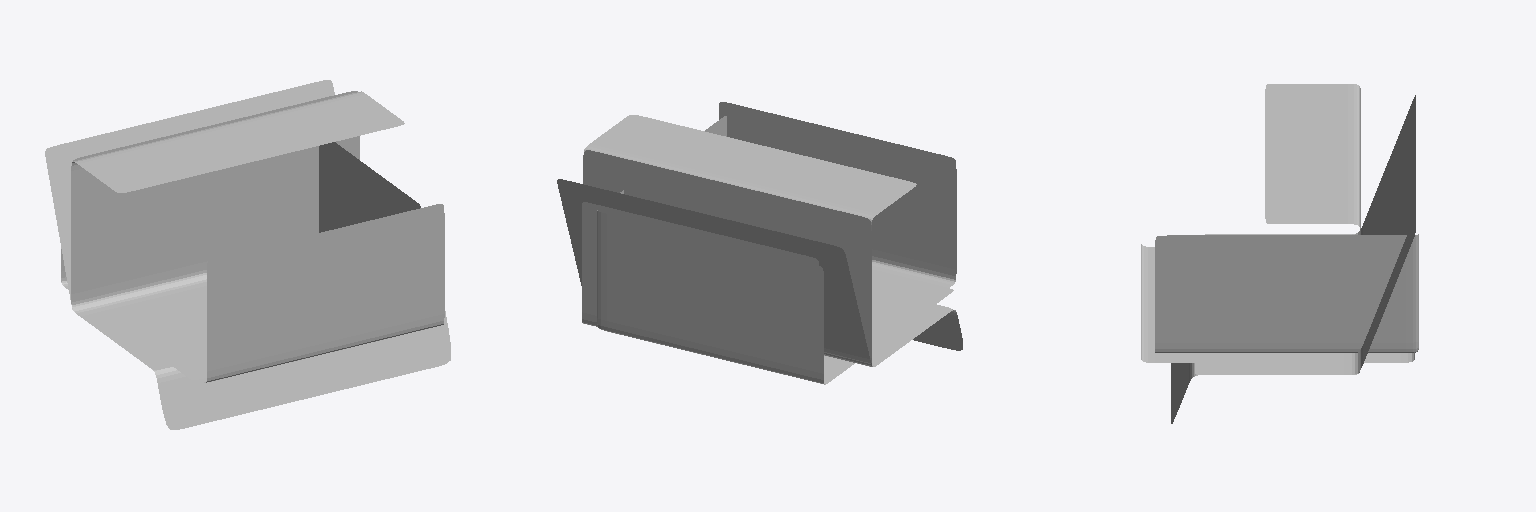
Rendered from Studio Backdrops.obj.
3 renders of one model, left to right at view 1: azimuth 30°, elevation 25°; view 2: azimuth 150°, elevation 25°; view 3: azimuth 270°, elevation 25°, orthographic.
Visible parts, largest first — view 1: Studio_U_Plane.002, Studio_C_Plane.005, Studio_S_Plane.001, Studio_L_Plane.003, Studio_Corner_Plane.000; view 2: Studio_Corner_Plane.000, Studio_C_Plane.005, Studio_U_Plane.002, Studio_S_Plane.001, Studio_L_Plane.003; view 3: Studio_Corner_Plane.000, Studio_C_Plane.005, Studio_S_Plane.001, Studio_U_Plane.002.
Boxes of the visible parts, box(x1,y1,x2,y2) form: Studio_U_Plane.002: box(105, 204, 444, 382); Studio_C_Plane.005: box(71, 91, 404, 369); Studio_S_Plane.001: box(45, 80, 450, 429); Studio_L_Plane.003: box(71, 91, 359, 368); Studio_Corner_Plane.000: box(61, 142, 420, 379); Studio_Corner_Plane.000: box(597, 116, 953, 384); Studio_C_Plane.005: box(583, 115, 951, 366); Studio_U_Plane.002: box(582, 102, 956, 378); Studio_S_Plane.001: box(557, 179, 962, 366); Studio_L_Plane.003: box(583, 150, 951, 366); Studio_Corner_Plane.000: box(1155, 234, 1418, 352); Studio_C_Plane.005: box(1195, 84, 1360, 374); Studio_S_Plane.001: box(1171, 95, 1415, 423); Studio_U_Plane.002: box(1141, 244, 1414, 362).
Bounding box in the file's own units: 8 × 5.41 × 6.7.